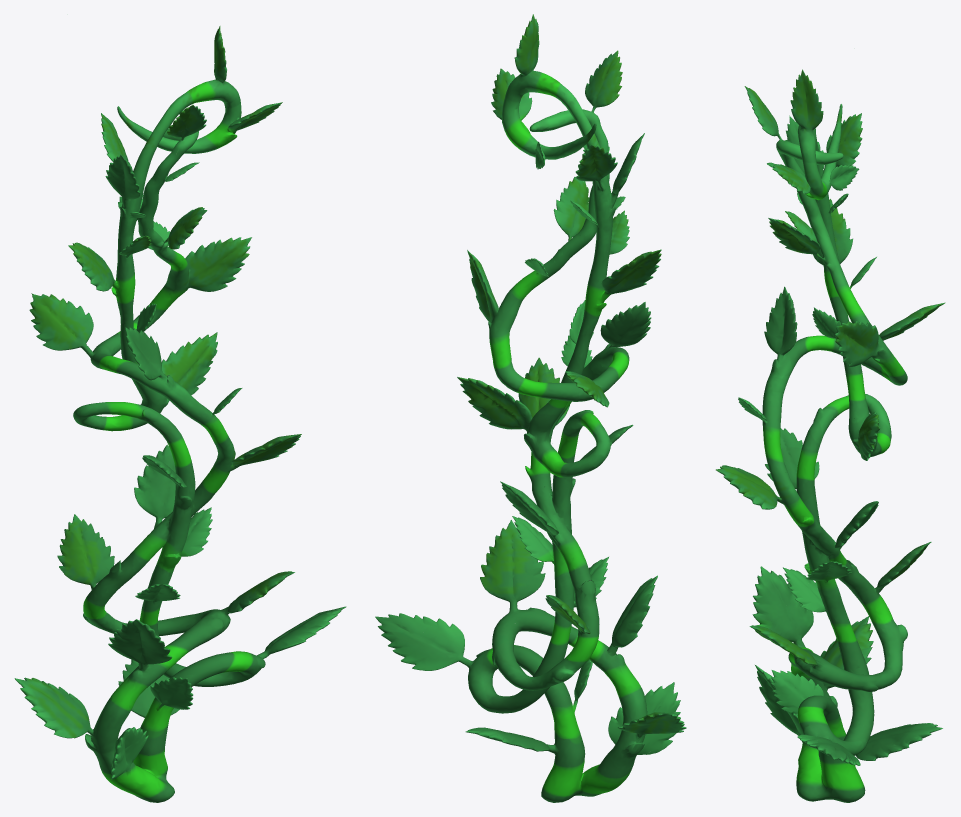
File: vinesWithStripes.fbx
3 renders of one model, left to right at view 1: azimuth 30°, elevation 25°; view 2: azimuth 150°, elevation 25°; view 3: azimuth 270°, elevation 25°, orthographic.
Parts seen in each view (by area): view 1: Layer_1; view 2: Layer_1; view 3: Layer_1.
Boxes of the visible parts, <box> form: Layer_1: <box>14,26,346,802</box>; Layer_1: <box>375,14,686,802</box>; Layer_1: <box>716,69,945,802</box>.
Size of the model in its own units: 412 by 963 by 265.
Materials: 1 (1 with a texture image).
